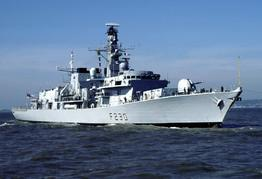warship: (7, 22, 243, 124)
